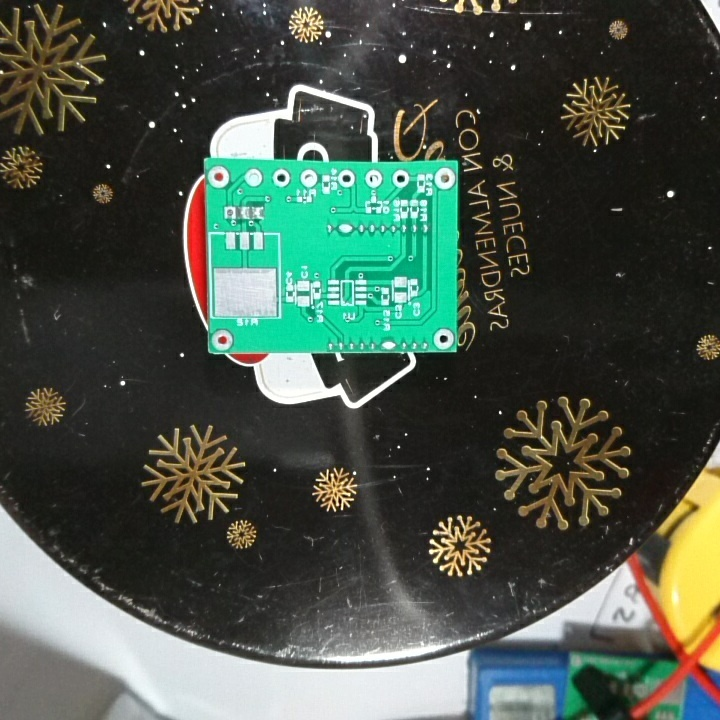F: (204, 164, 233, 194), (208, 327, 237, 353), (433, 166, 457, 193), (431, 326, 455, 352), (242, 166, 267, 190), (361, 167, 385, 191), (390, 167, 412, 190), (299, 166, 319, 190), (270, 167, 291, 189), (336, 167, 357, 189), (221, 203, 239, 222)
P: (336, 221, 355, 238), (379, 338, 398, 353)
